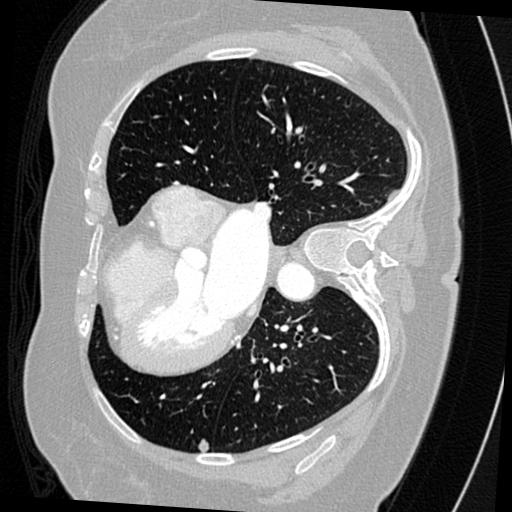nodule: (196, 436, 214, 454)
